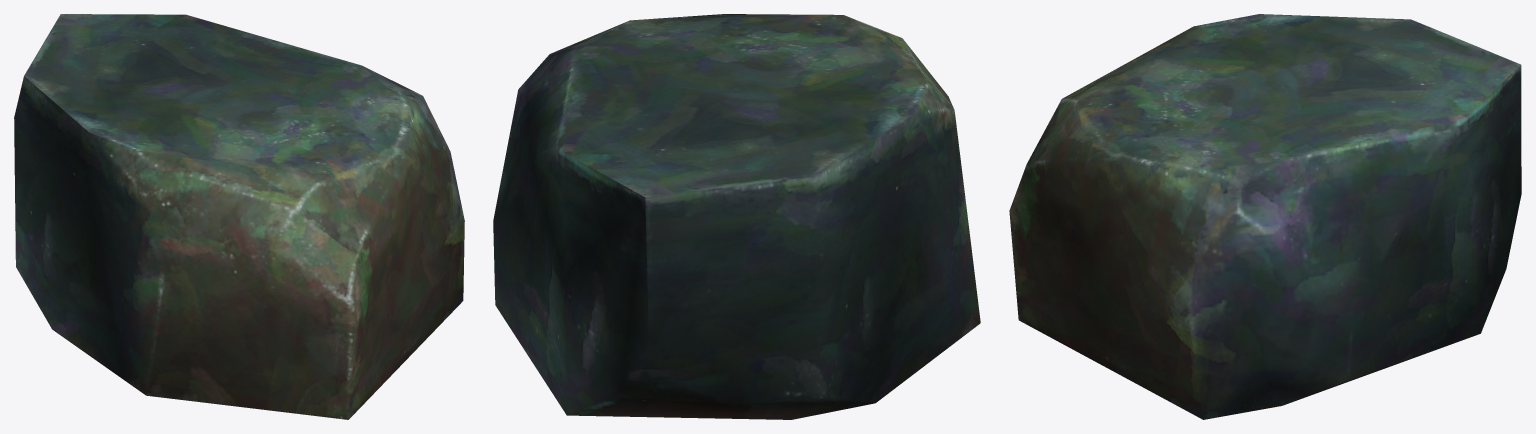
File: tinyrock1.fbx
3 renders of one model, left to right at view 1: azimuth 30°, elevation 25°; view 2: azimuth 150°, elevation 25°; view 3: azimuth 270°, elevation 25°, orthographic. The views are drawn at different scales.
Visible parts, largest first — view 1: tinyrocks; view 2: tinyrocks; view 3: tinyrocks.
Part boxes in pixels (x1,y1,x2,y2): tinyrocks: [14, 14, 464, 419]; tinyrocks: [493, 14, 980, 419]; tinyrocks: [1009, 14, 1521, 419].
Bounding box in the file's own units: 113 × 72.49 × 142.
